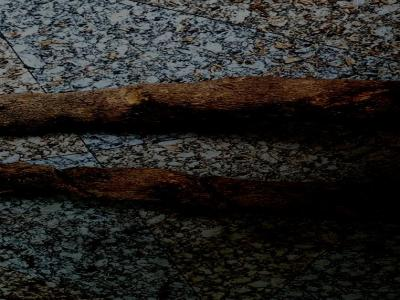Root: (0, 77, 399, 135), (0, 162, 399, 217)
